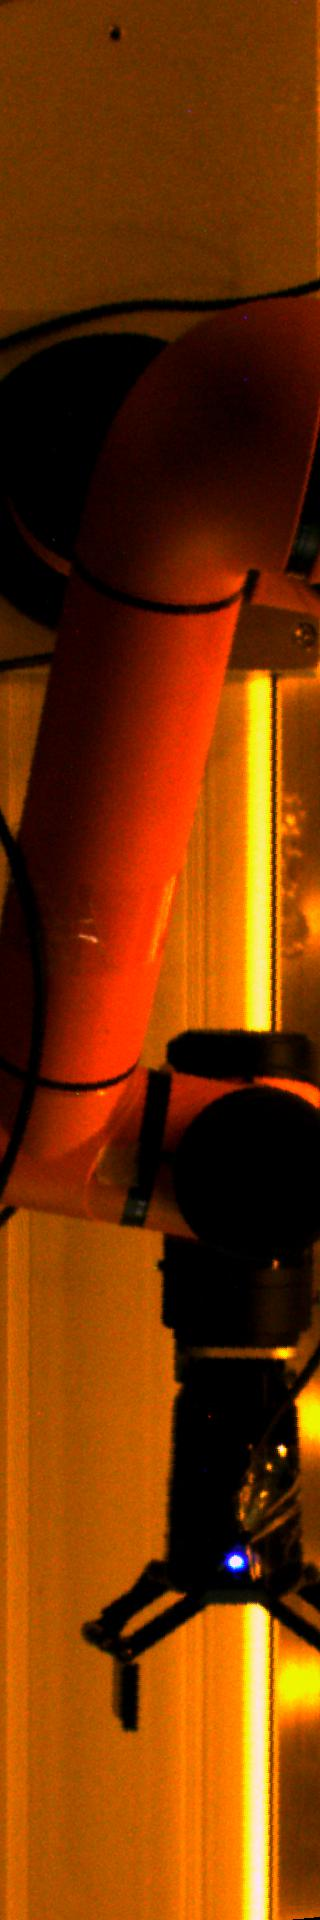keyPoint_1: (221, 1543, 251, 1573)
keyPoint_2: (101, 18, 130, 48)
